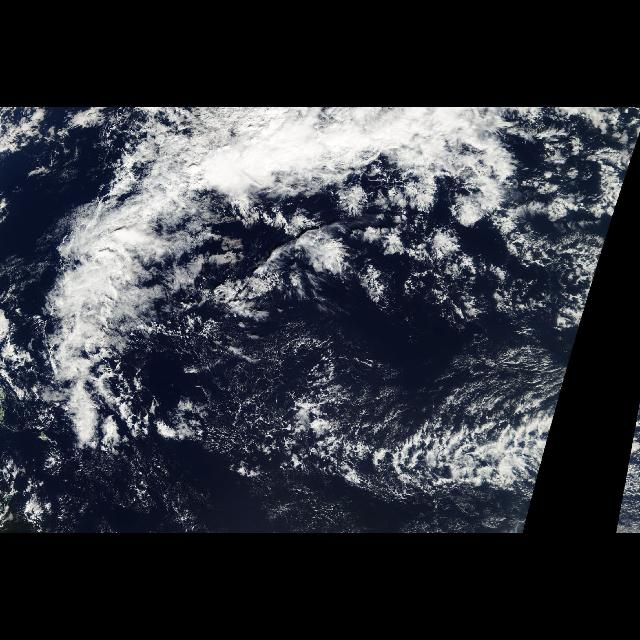Fish: (275, 388, 563, 506), (619, 392, 639, 506)
Flower: (283, 191, 493, 295)
Sugar: (205, 338, 471, 480)
